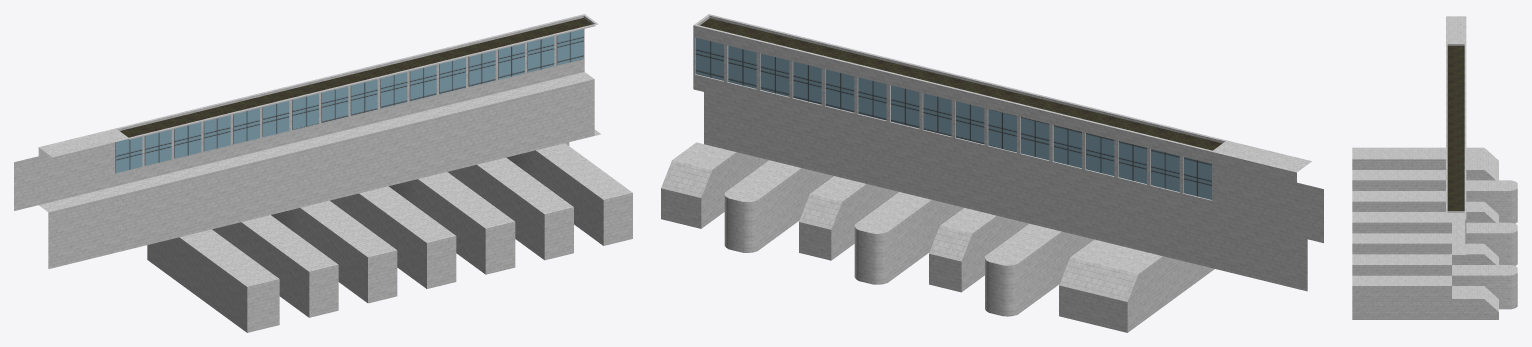
The model's file is RiverDam_A_01.fbx.
The picture shows the model from 3 angles, left to right: view 1: azimuth 30°, elevation 25°; view 2: azimuth 150°, elevation 25°; view 3: azimuth 270°, elevation 25°; orthographic projection. The views are drawn at different scales.
Parts seen in each view (by area): view 1: RiverDam_A_01; view 2: RiverDam_A_01; view 3: RiverDam_A_01.
Part boxes in pixels (x1,y1,x2,y2): RiverDam_A_01: (14,14,632,332); RiverDam_A_01: (661,14,1323,332); RiverDam_A_01: (1352,16,1517,319).
Bounding box in the file's own units: 12469 × 3317 × 4209.
3 materials, 3 textured.
